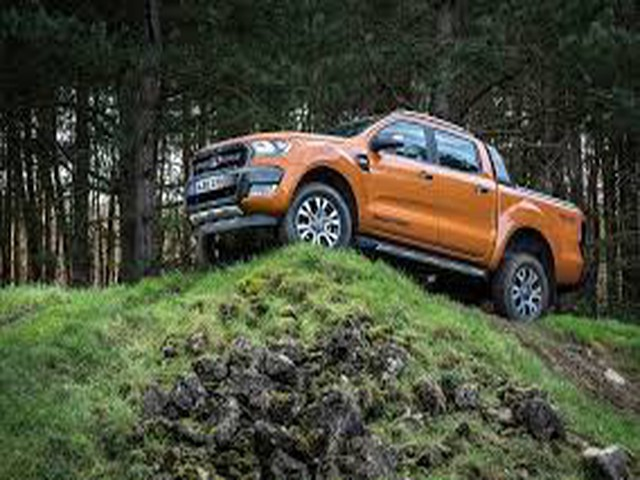Vehicle: (177, 107, 589, 322)
